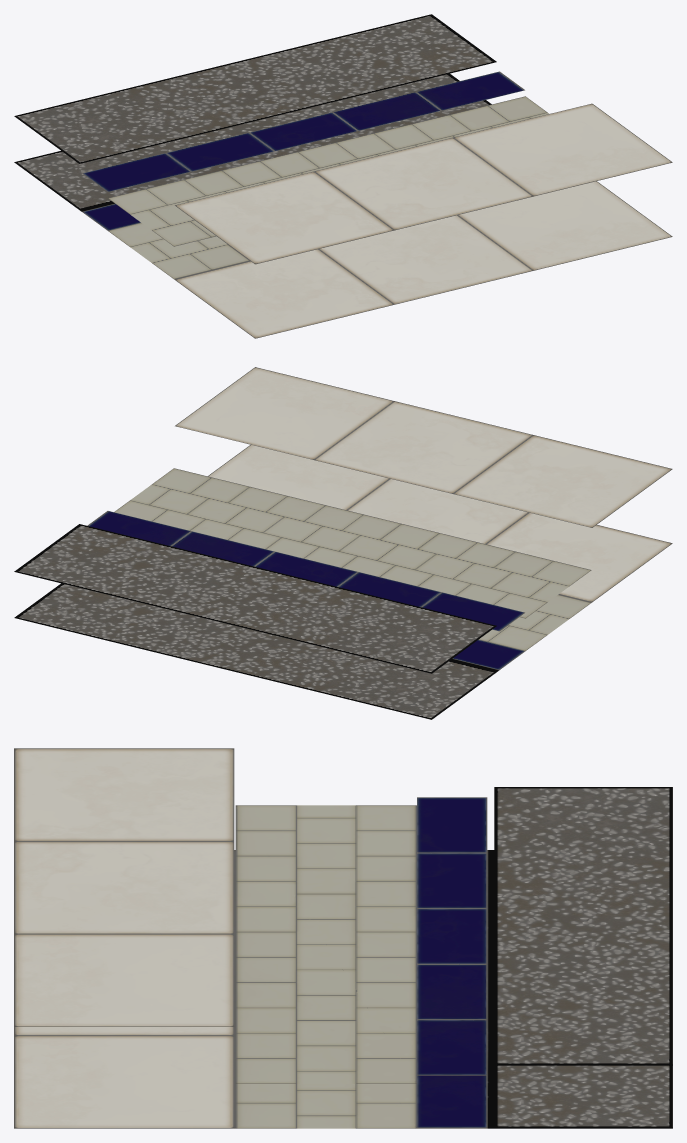
The model's file is Walls.fbx.
3 views of the same model, one above another, from view 1: azimuth 30°, elevation 25°; view 2: azimuth 150°, elevation 25°; view 3: azimuth 270°, elevation 25° (orthographic). The views are drawn at different scales.
Visible parts, largest first — view 1: Plane.004, Plane.008, Plane.005, Plane.007, Plane.006; view 2: Plane.004, Plane.008, Plane.005, Plane.007, Plane.006; view 3: Plane.008, Plane.007, Plane.005, Plane.004, Plane.006.
Boxes of the visible parts, x1,y1,x2,y2 form: Plane.004: [14, 73, 672, 338]; Plane.008: [175, 103, 672, 264]; Plane.005: [14, 14, 496, 163]; Plane.007: [108, 96, 549, 246]; Plane.006: [82, 71, 524, 191]; Plane.004: [14, 445, 672, 719]; Plane.008: [175, 367, 672, 527]; Plane.005: [14, 524, 496, 673]; Plane.007: [114, 468, 591, 618]; Plane.006: [87, 511, 524, 631]; Plane.008: [14, 748, 234, 1026]; Plane.007: [235, 805, 416, 1083]; Plane.005: [494, 787, 672, 1065]; Plane.004: [14, 850, 672, 1128]; Plane.006: [417, 797, 487, 1075].
Bounding box in the file's own units: 100 × 17 × 100.
